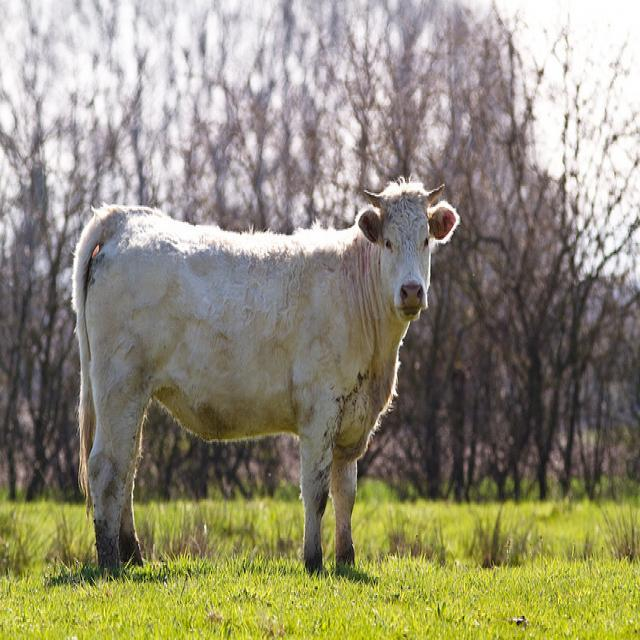cow: (69, 174, 460, 578)
